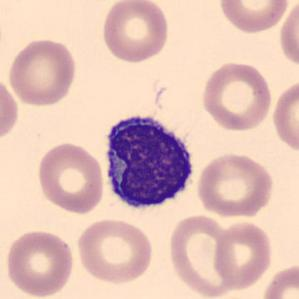Lymphocyte: (97, 106, 200, 215)
RBC: (166, 212, 240, 298), (199, 58, 274, 134), (74, 216, 155, 286), (194, 151, 276, 218), (35, 140, 106, 216), (6, 35, 78, 108), (3, 227, 77, 298), (211, 218, 275, 292), (99, 0, 171, 64), (216, 0, 290, 35), (270, 78, 298, 154), (276, 0, 299, 70), (260, 261, 298, 299), (0, 75, 21, 143)
